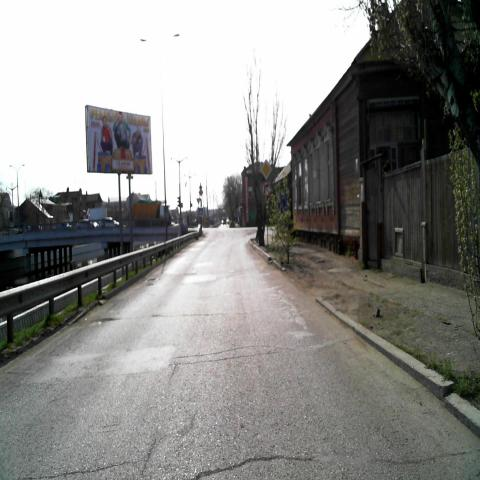3_18: (262, 181, 270, 196)
